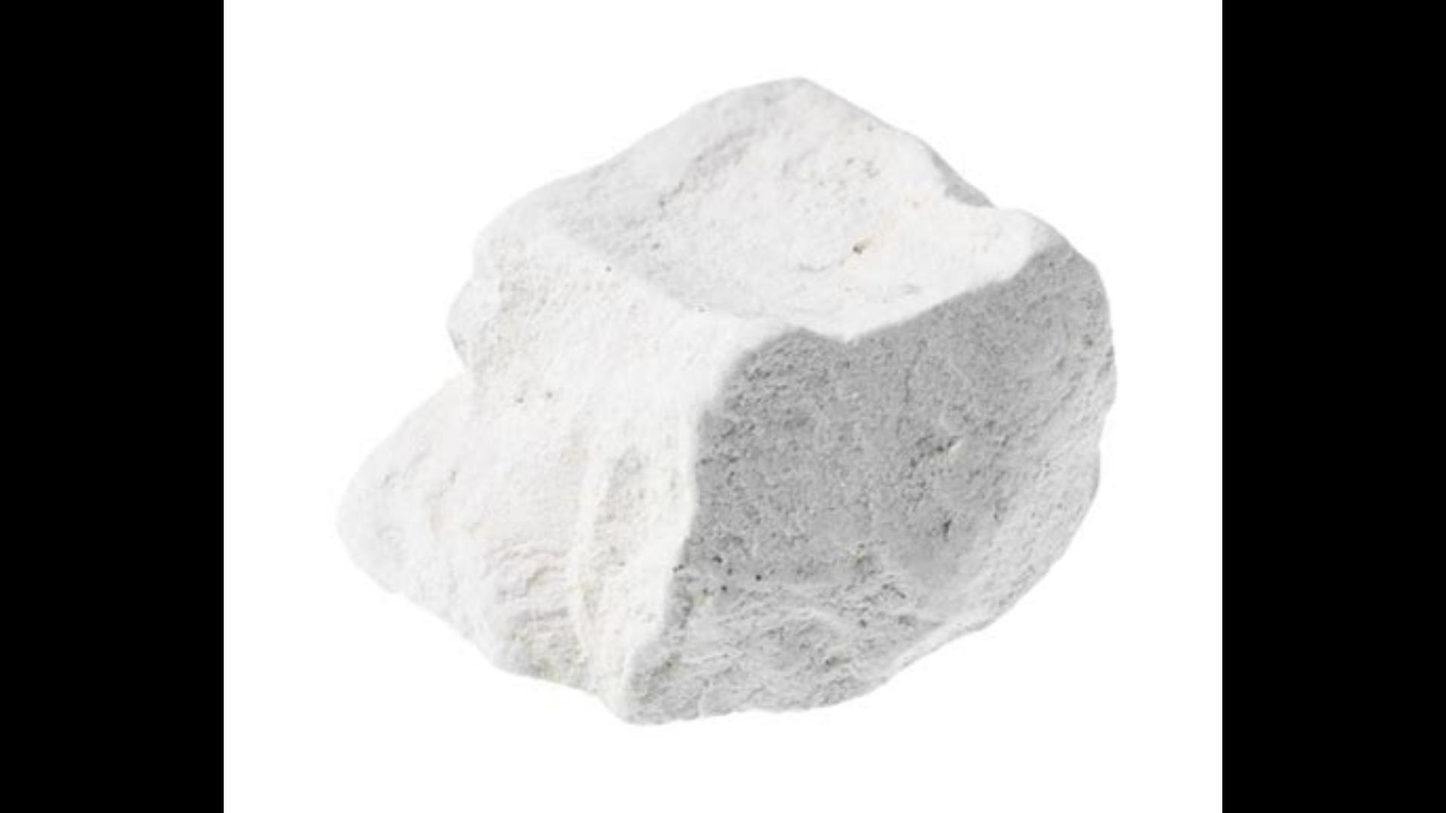rock: (344, 80, 1111, 720)
